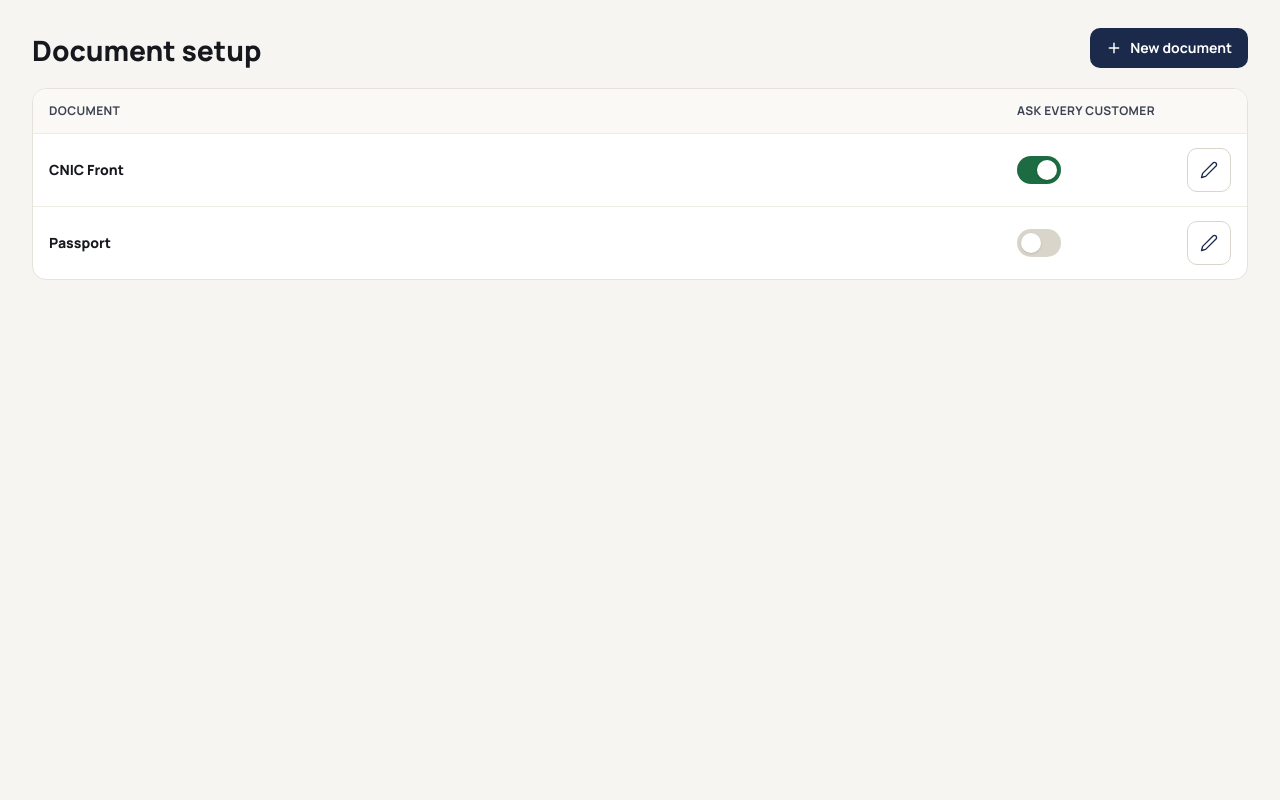
Scenario: Document setup (KAN-83) › asks before turning a switch on, and puts it back when the save fails
Click the switch named "Ask every customer for Passport" in the row of "Passport" at {"x": 1039, "y": 243}, box [1017, 229, 1061, 257]
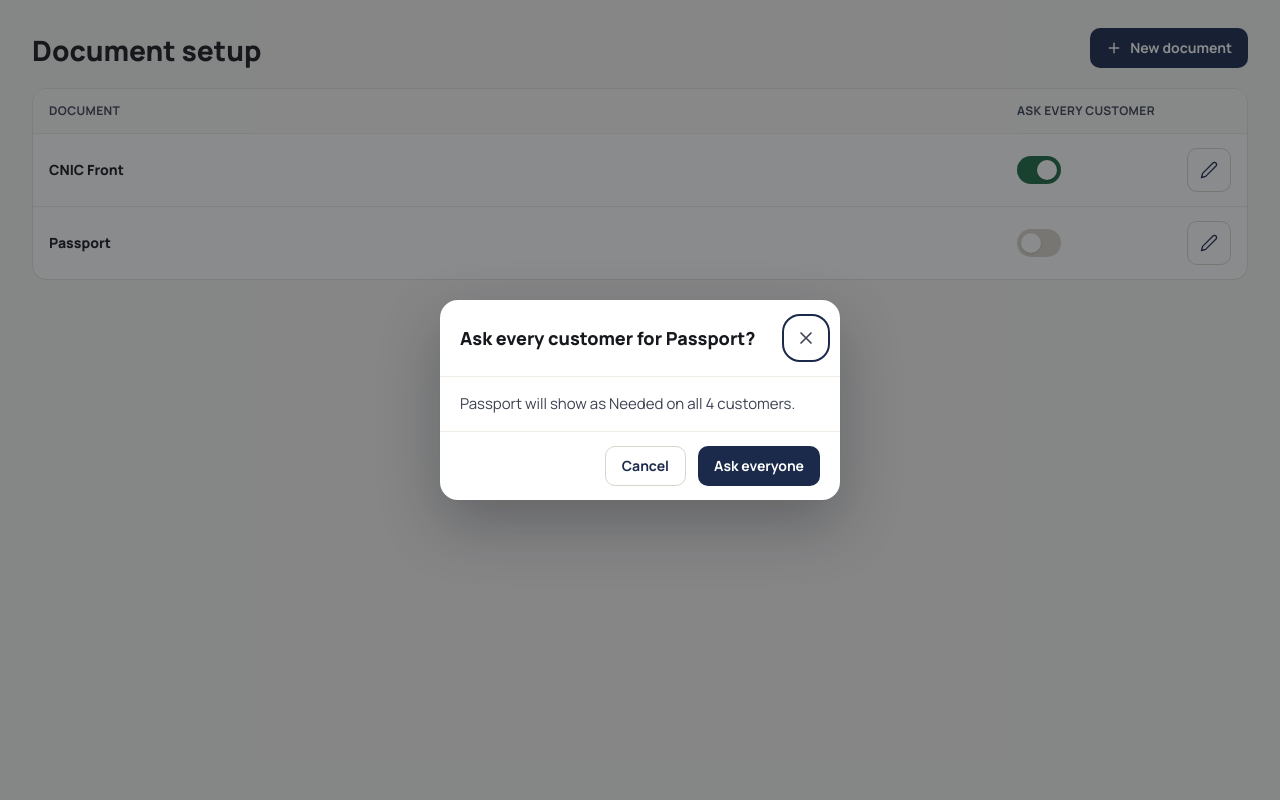
Check: the heading "Ask every customer for Passport?" is shown, box [460, 326, 755, 350]
Check: the text "Passport will show as Needed on all 4 customers." is shown, box [460, 393, 820, 415]
Click the button "Ask everyone" at {"x": 759, "y": 466}, box [698, 446, 820, 486]
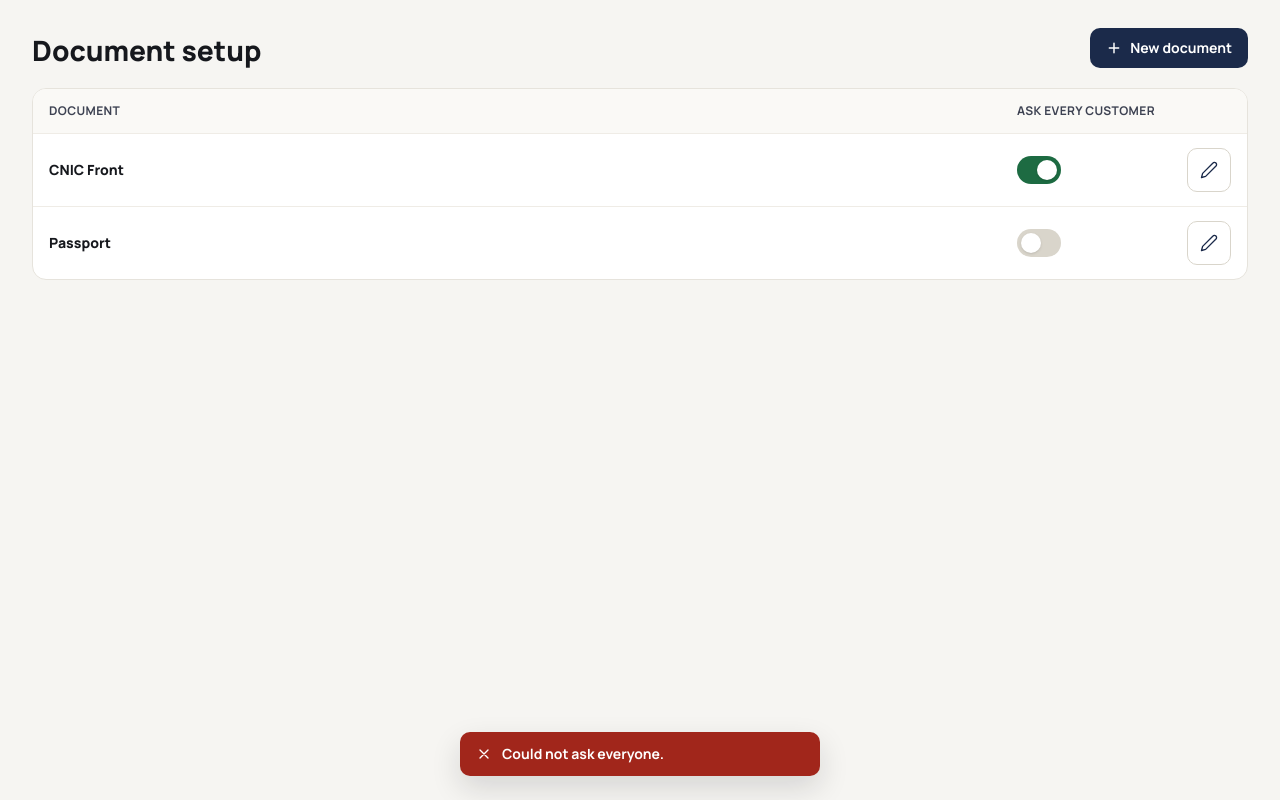
Check: the message reads "Could not ask everyone.", box [502, 744, 664, 763]
